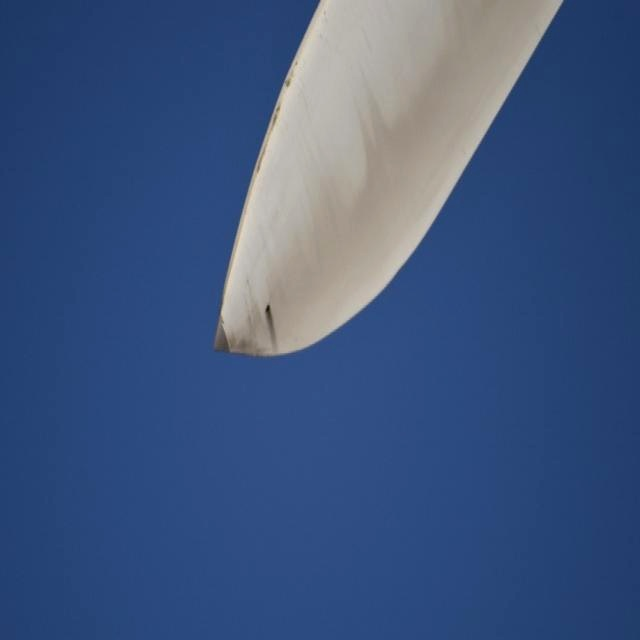Burn Mark: (264, 302, 278, 352)
EROSION: (246, 65, 306, 187)
